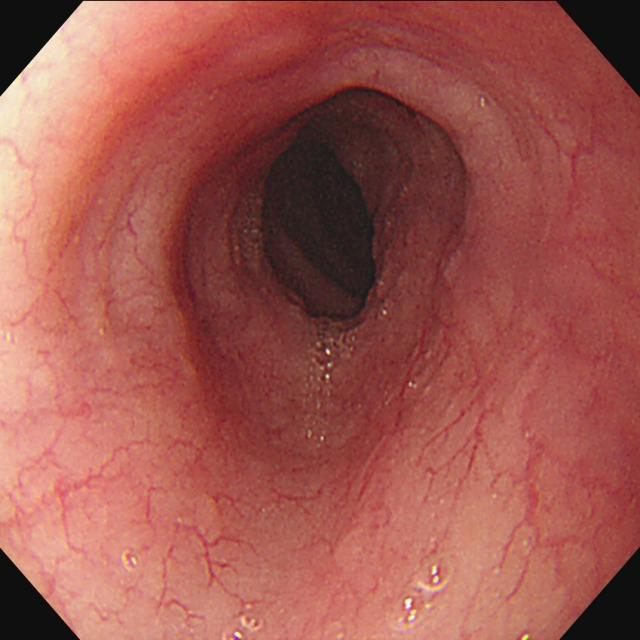E: (279, 141, 377, 295)
T: (385, 556, 456, 635), (307, 335, 346, 443)
